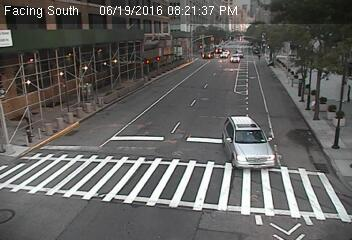neg: (23, 128, 37, 146)
pos: (18, 103, 34, 124)
